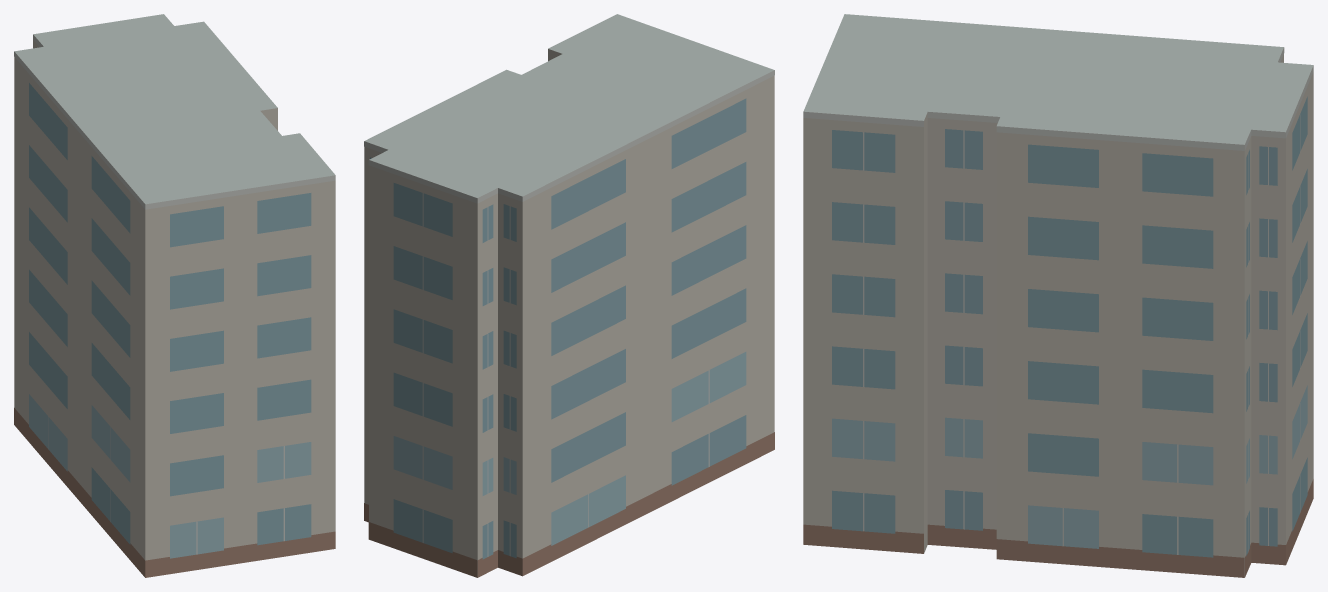
Rendered from survey-upis-32696307.glb.
The picture shows the model from 3 angles, left to right: view 1: azimuth 30°, elevation 25°; view 2: azimuth 150°, elevation 25°; view 3: azimuth 270°, elevation 25°; orthographic projection. The views are drawn at different scales.
Parts seen in each view (by area): view 1: survey-upis-32696307.tmp; view 2: survey-upis-32696307.tmp; view 3: survey-upis-32696307.tmp.
Boxes of the visible parts, x1=… form: survey-upis-32696307.tmp: x1=14, y1=14, x2=335, y2=577; survey-upis-32696307.tmp: x1=364, y1=14, x2=774, y2=577; survey-upis-32696307.tmp: x1=803, y1=14, x2=1313, y2=577.
Size of the model in its own units: 11.09 by 17.1 by 18.28.
